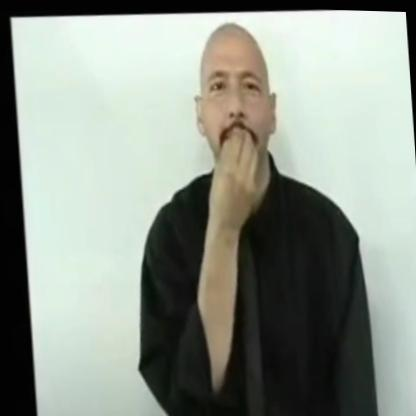Food: (188, 11, 297, 228)
